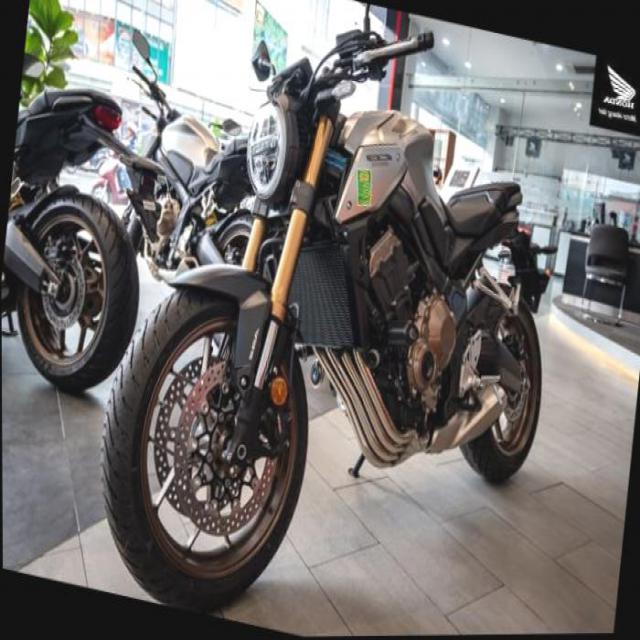CB650R: (83, 21, 572, 638)
